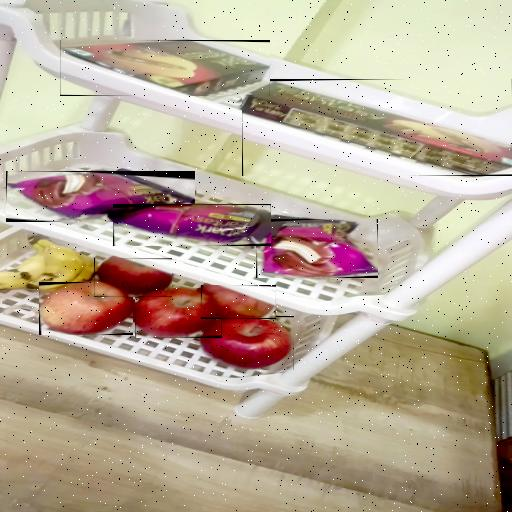Apple: (39, 282, 133, 335), (202, 316, 294, 370), (135, 288, 222, 338), (94, 258, 172, 297), (201, 285, 276, 319)
Choco Fills: (242, 79, 512, 176), (60, 40, 270, 96)
Choco Pie: (6, 171, 195, 222), (256, 219, 378, 278), (113, 204, 271, 246)
